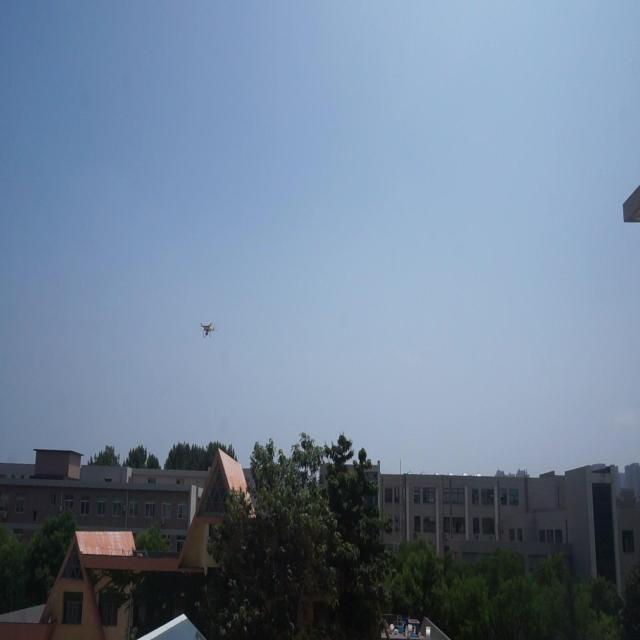drone: (199, 318, 217, 340)
